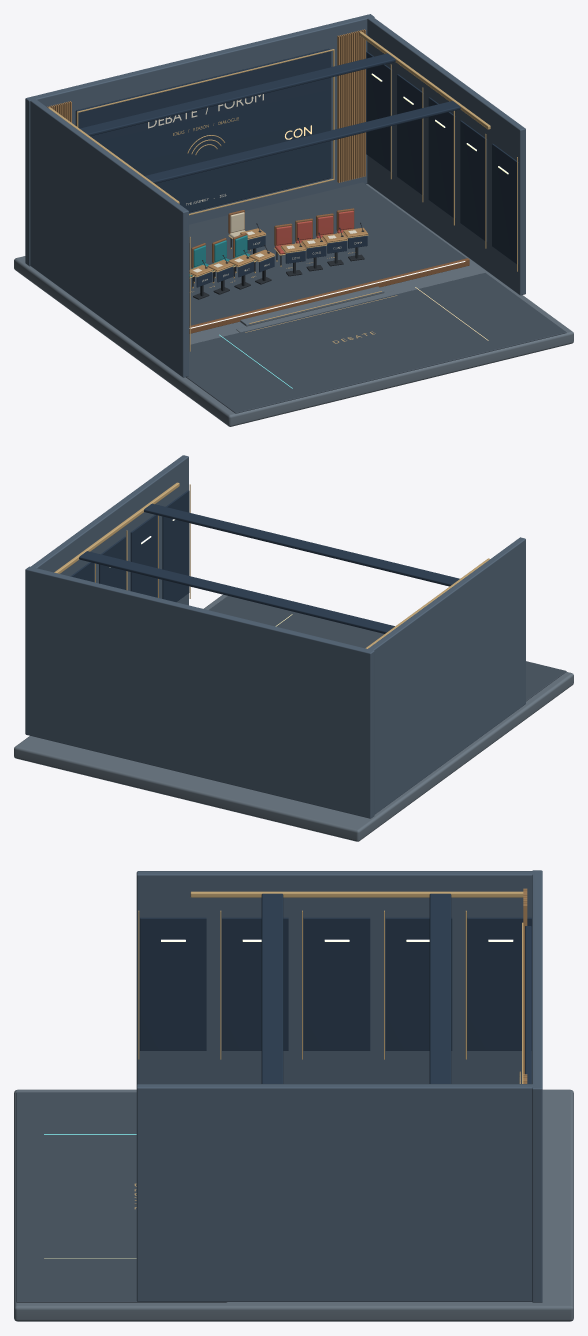
The model's file is debate_hall.glb.
3 views of the same model, one above another, from view 1: azimuth 30°, elevation 25°; view 2: azimuth 150°, elevation 25°; view 3: azimuth 270°, elevation 25° (orthographic). The views are drawn at different scales.
Parts seen in each view (by area): view 1: Side wall, Audience carpet, Feature backdrop, Stage carpet, Side wall.001, Rear wall, Foundation, Ceiling lighting raft, Ceiling lighting raft.001, Acoustic wall bay.006, Acoustic wall bay.005, Acoustic wall bay.007 (+7 smaller); view 2: Rear wall, Side wall, Foundation, Side wall.001, Audience carpet, Ceiling lighting raft, Ceiling lighting raft.001, Acoustic wall bay.005, Acoustic wall bay.006, Acoustic wall bay.007, Ceiling side rail.001; view 3: Side wall.001, Side wall, Audience carpet, Foundation, Acoustic wall bay.002, Acoustic wall bay, Acoustic wall bay.004, Acoustic wall bay.003, Acoustic wall bay.001, Rear wall, Ceiling lighting raft, Ceiling lighting raft.001 (+2 smaller).
Boxes of the visible parts, x1,y1,x2,y2 form: Side wall: (30,99,188,377); Audience carpet: (186,273,566,413); Feature backdrop: (75,48,331,212); Stage carpet: (189,182,466,325); Side wall.001: (367,16,525,295); Rear wall: (25,14,374,266); Foundation: (14,184,573,426); Ceiling lighting raft: (144,101,460,183); Ceiling lighting raft.001: (79,53,395,136); Acoustic wall bay.006: (460,120,487,241); Acoustic wall bay.005: (492,143,518,264); Acoustic wall bay.007: (428,97,455,218); Rear wall: (25,566,374,818); Side wall: (368,537,525,814); Foundation: (14,594,573,841); Side wall.001: (31,455,188,605); Audience carpet: (209,596,566,701); Ceiling lighting raft: (144,503,459,586); Ceiling lighting raft.001: (79,551,394,633); Acoustic wall bay.005: (162,490,189,602); Acoustic wall bay.006: (130,514,157,597); Acoustic wall bay.007: (99,536,125,589); Ceiling side rail.001: (54,482,179,573); Side wall.001: (136,1084,534,1301); Side wall: (136,871,535,1084); Audience carpet: (16,1092,226,1302); Foundation: (14,1089,573,1321); Acoustic wall bay.002: (303,917,370,1050); Acoustic wall bay: (140,917,206,1050); Acoustic wall bay.004: (467,917,531,1050); Acoustic wall bay.003: (385,917,452,1050); Acoustic wall bay.001: (222,917,288,1050); Rear wall: (532,870,542,1302); Ceiling lighting raft: (261,893,283,1083); Ceiling lighting raft.001: (429,893,451,1083).
Size of the model in its own units: 12 by 6 by 13.
